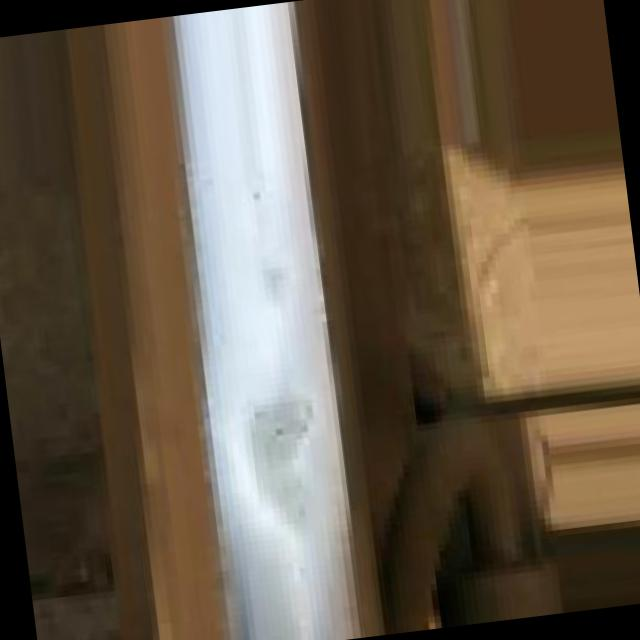non-defective: (26, 0, 430, 640)
